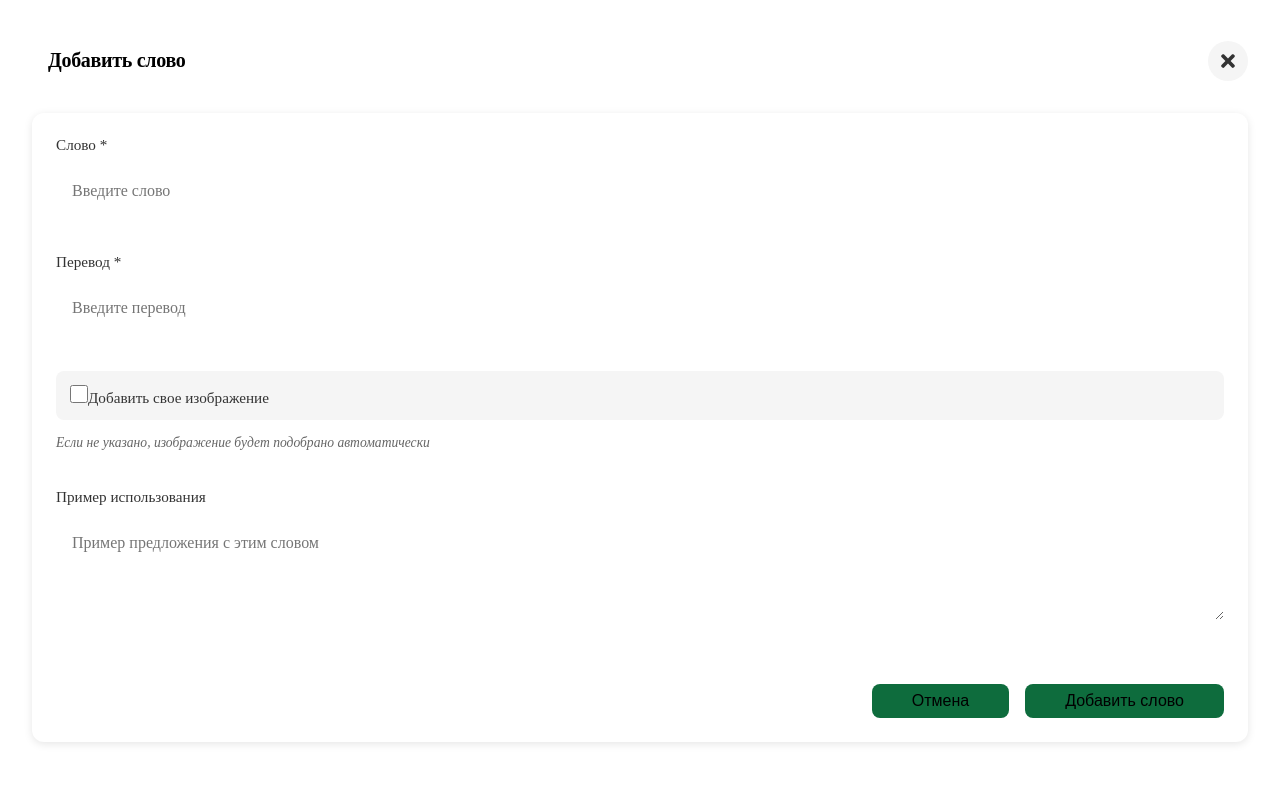
Test: AddWord Component › успешно добавляет слово без изображения
// Заполняем форму
Type "Hello" into the field labelled "Слово *" at coordinates (640, 191), box [56,168,1224,214]
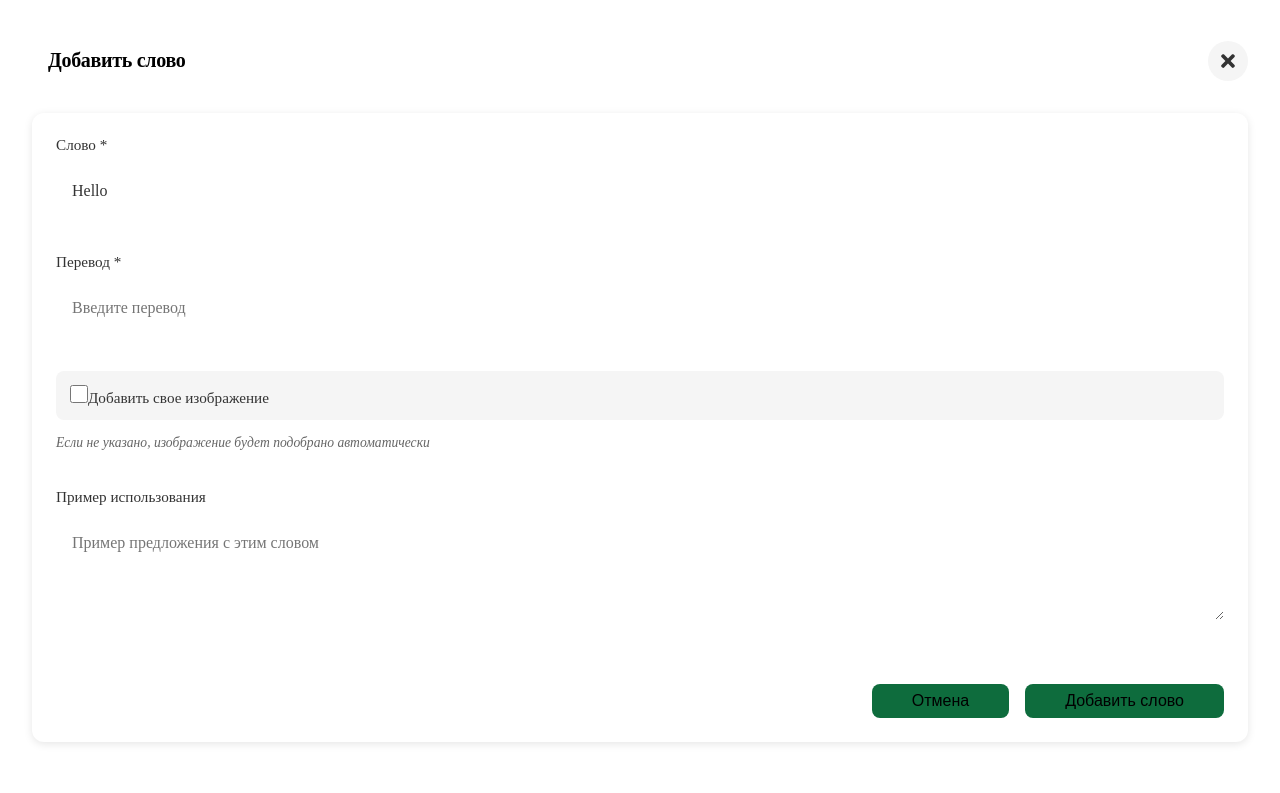
Type "Привет" into the field labelled "Перевод *" at coordinates (640, 308), box [56,285,1224,331]
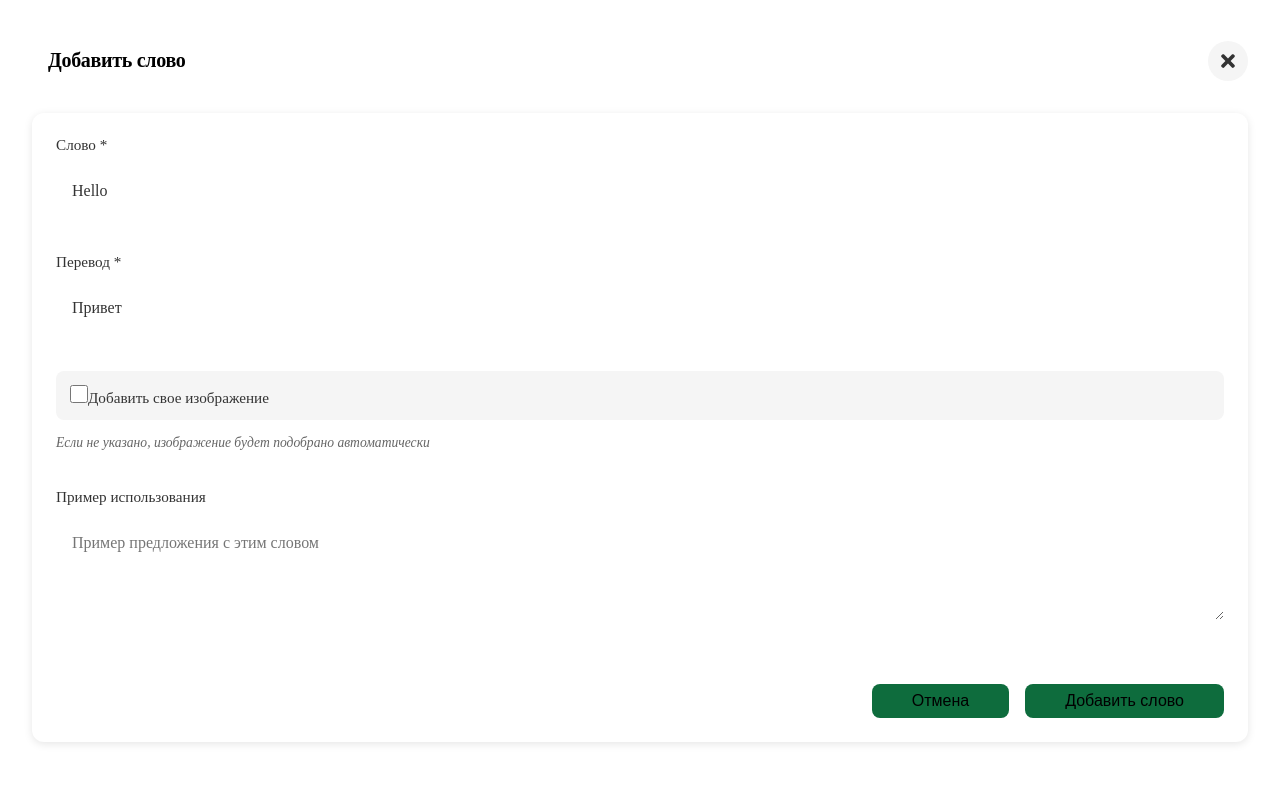
Click the button "Добавить слово" at coordinates (1125, 701), box [1025,684,1224,718]
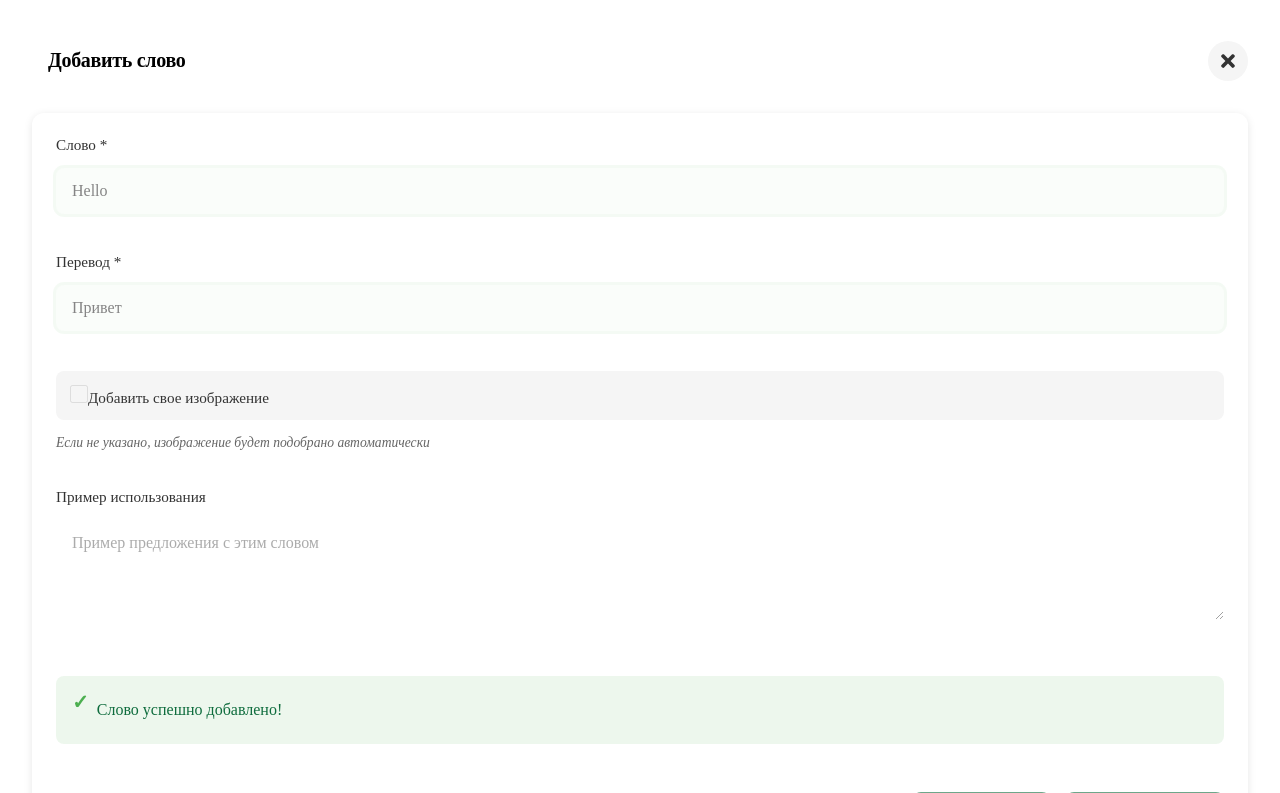
Expected: the text "✓ Слово успешно добавлено!" is shown, [56,676,1224,744]
